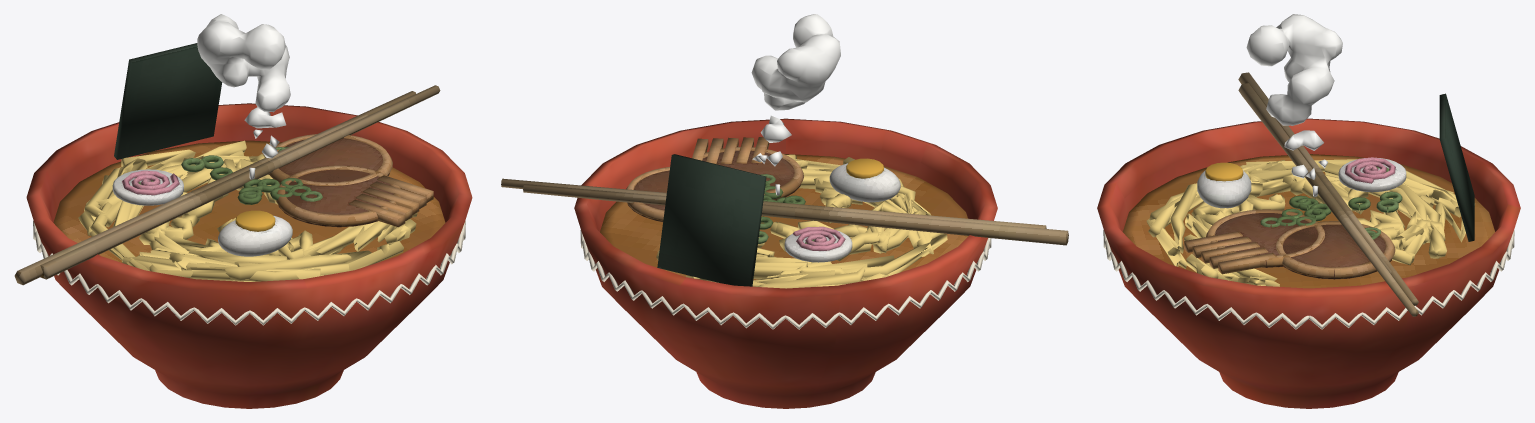
File: ramen_shoyu.glb
3 renders of one model, left to right at view 1: azimuth 30°, elevation 25°; view 2: azimuth 150°, elevation 25°; view 3: azimuth 270°, elevation 25°, orthographic. The views are drawn at different scales.
Parts seen in each view (by area): view 1: ramen_shoyu_felt_red, ramen_shoyu_yarn_noodle, ramen_shoyu_felt_nori, ramen_shoyu_felt_broth, ramen_shoyu_wood_light, ramen_shoyu_steam1, ramen_shoyu_felt_tan, ramen_shoyu_felt_brown, ramen_shoyu_felt_rice, ramen_shoyu_thread, ramen_shoyu_felt_green, ramen_shoyu_felt_pink (+1 smaller); view 2: ramen_shoyu_felt_red, ramen_shoyu_felt_nori, ramen_shoyu_yarn_noodle, ramen_shoyu_wood_light, ramen_shoyu_felt_broth, ramen_shoyu_steam1, ramen_shoyu_felt_rice, ramen_shoyu_thread, ramen_shoyu_felt_tan, ramen_shoyu_felt_brown, ramen_shoyu_felt_pink, ramen_shoyu_felt_green (+1 smaller); view 3: ramen_shoyu_felt_red, ramen_shoyu_yarn_noodle, ramen_shoyu_felt_broth, ramen_shoyu_steam1, ramen_shoyu_felt_tan, ramen_shoyu_felt_brown, ramen_shoyu_wood_light, ramen_shoyu_thread, ramen_shoyu_felt_rice, ramen_shoyu_felt_nori, ramen_shoyu_felt_green, ramen_shoyu_felt_pink (+1 smaller).
Boxes of the visible parts, x1,y1,x2,y2 form: ramen_shoyu_felt_red: [26, 103, 472, 408]; ramen_shoyu_yarn_noodle: [78, 140, 417, 281]; ramen_shoyu_felt_nori: [114, 43, 222, 159]; ramen_shoyu_felt_broth: [53, 140, 445, 262]; ramen_shoyu_wood_light: [14, 85, 440, 285]; ramen_shoyu_steam1: [197, 14, 290, 179]; ramen_shoyu_felt_tan: [269, 134, 433, 227]; ramen_shoyu_felt_brown: [268, 138, 393, 227]; ramen_shoyu_felt_rice: [112, 169, 292, 256]; ramen_shoyu_thread: [33, 220, 465, 325]; ramen_shoyu_felt_green: [135, 147, 322, 204]; ramen_shoyu_felt_pink: [122, 170, 179, 195]; ramen_shoyu_felt_red: [574, 118, 997, 408]; ramen_shoyu_felt_nori: [657, 154, 766, 286]; ramen_shoyu_yarn_noodle: [656, 154, 947, 288]; ramen_shoyu_wood_light: [501, 178, 1068, 245]; ramen_shoyu_felt_broth: [600, 154, 968, 279]; ramen_shoyu_steam1: [751, 14, 840, 195]; ramen_shoyu_felt_rice: [784, 163, 900, 262]; ramen_shoyu_thread: [580, 230, 991, 329]; ramen_shoyu_felt_tan: [626, 137, 803, 222]; ramen_shoyu_felt_brown: [627, 150, 800, 221]; ramen_shoyu_felt_pink: [792, 226, 845, 250]; ramen_shoyu_felt_green: [758, 174, 814, 243]; ramen_shoyu_felt_red: [1097, 118, 1520, 408]; ramen_shoyu_yarn_noodle: [1146, 159, 1475, 286]; ramen_shoyu_felt_broth: [1123, 154, 1494, 288]; ramen_shoyu_steam1: [1246, 14, 1342, 197]; ramen_shoyu_felt_tan: [1184, 209, 1395, 279]; ramen_shoyu_felt_brown: [1215, 213, 1391, 279]; ramen_shoyu_wood_light: [1238, 72, 1418, 316]; ramen_shoyu_thread: [1103, 230, 1514, 329]; ramen_shoyu_felt_rice: [1197, 157, 1406, 208]; ramen_shoyu_felt_nori: [1439, 93, 1474, 241]; ramen_shoyu_felt_green: [1260, 166, 1402, 239]; ramen_shoyu_felt_pink: [1345, 157, 1395, 183].
Size of the model in its own units: 0.3955 by 0.2674 by 0.3.
13 materials, 9 textured.
